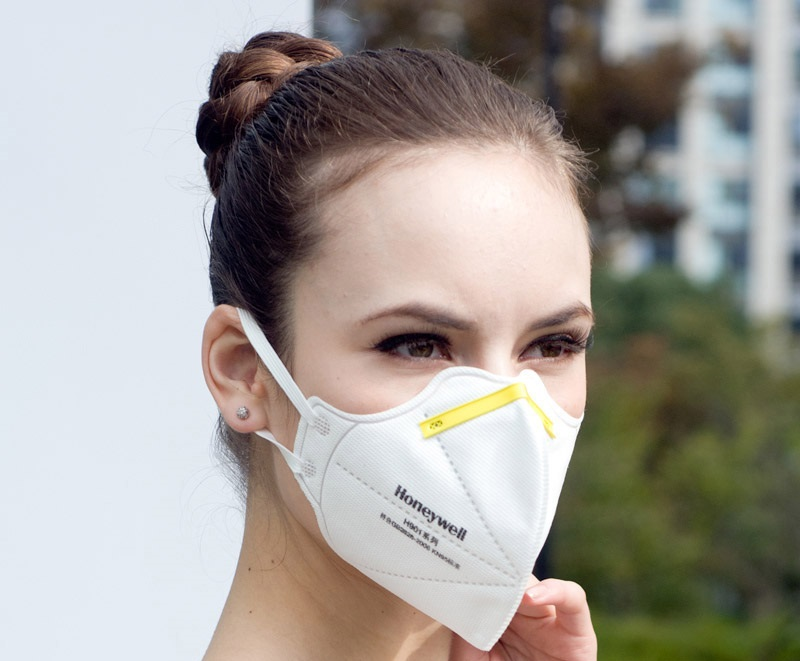face_mask: (277, 175, 594, 573)
